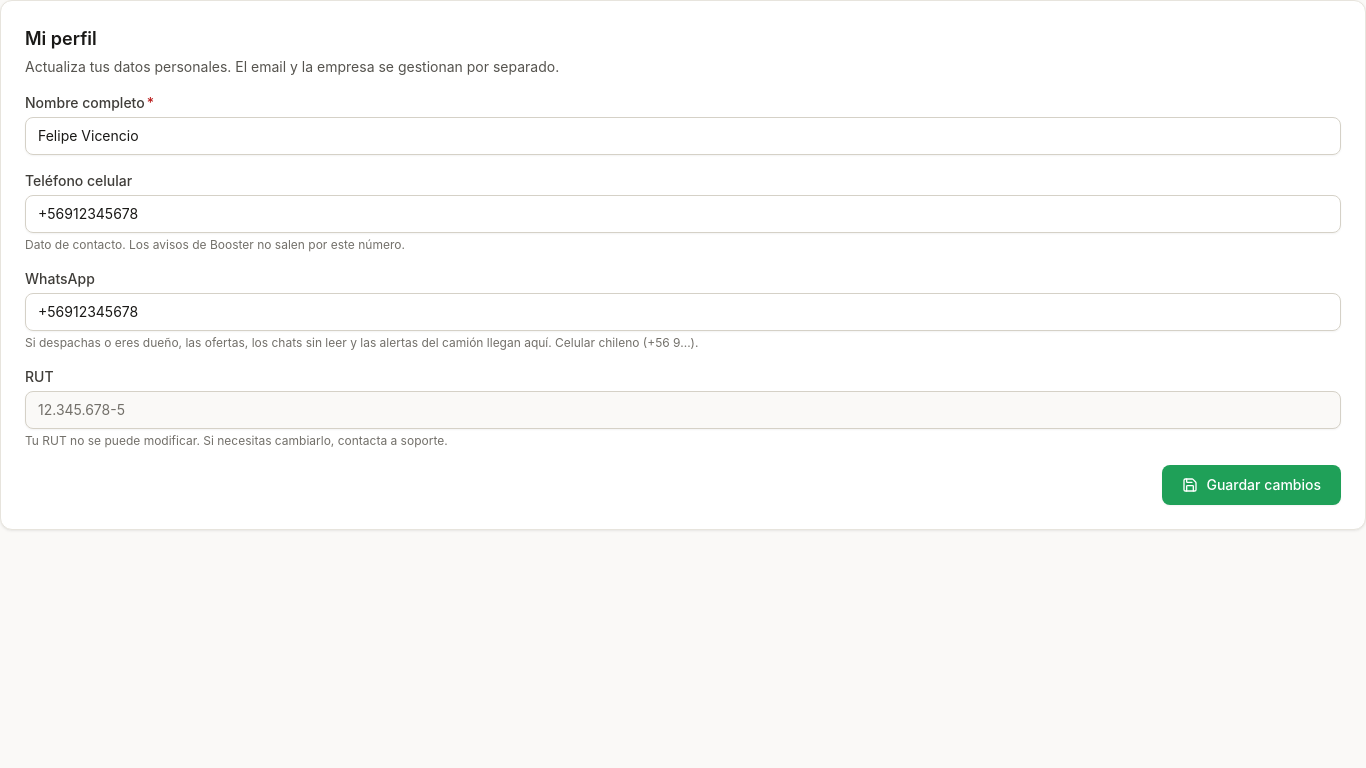
ProfileForm — submit › sin cambios (no dirty) → no PATCH al API + muestra mensaje guardado
What coordinates should you click on to do the following:
click the button "Guardar cambios"
I would click on:
 (1252, 485)
Its box is [1162,465,1341,505].
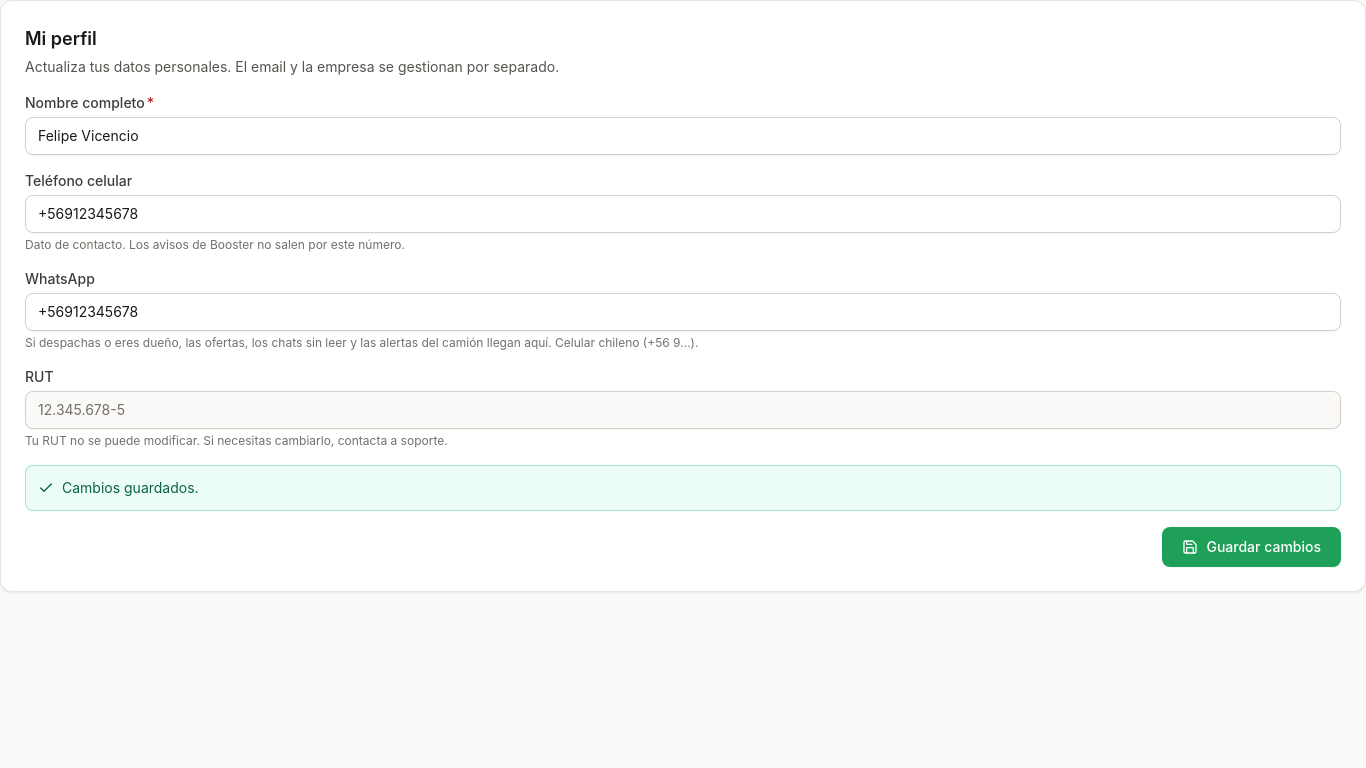
Result: the text "Cambios guardados." is shown at [25,465,1341,511]
